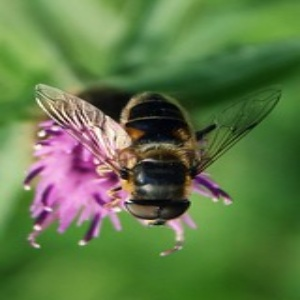bee: (34, 80, 281, 225)
